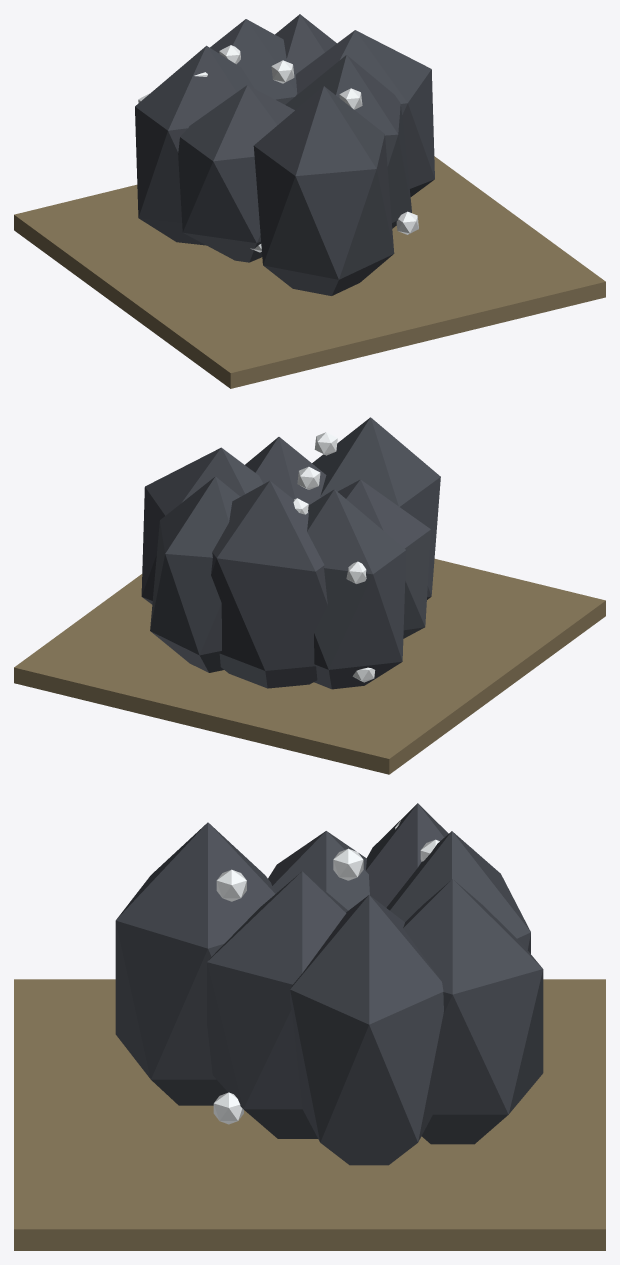
File: Deposit_Silver_Normal.fbx
3 views of the same model, one above another, from view 1: azimuth 30°, elevation 25°; view 2: azimuth 150°, elevation 25°; view 3: azimuth 270°, elevation 25° (orthographic). The views are drawn at different scales.
Parts seen in each view (by area): view 1: Deposit_Silver_Normal_Body; view 2: Deposit_Silver_Normal_Body; view 3: Deposit_Silver_Normal_Body.
Part boxes in pixels (x1,y1,x2,y2): Deposit_Silver_Normal_Body: (14,14,605,388); Deposit_Silver_Normal_Body: (14,417,605,774); Deposit_Silver_Normal_Body: (14,803,605,1250).
Size of the model in its own units: 1 by 0.5788 by 1.
